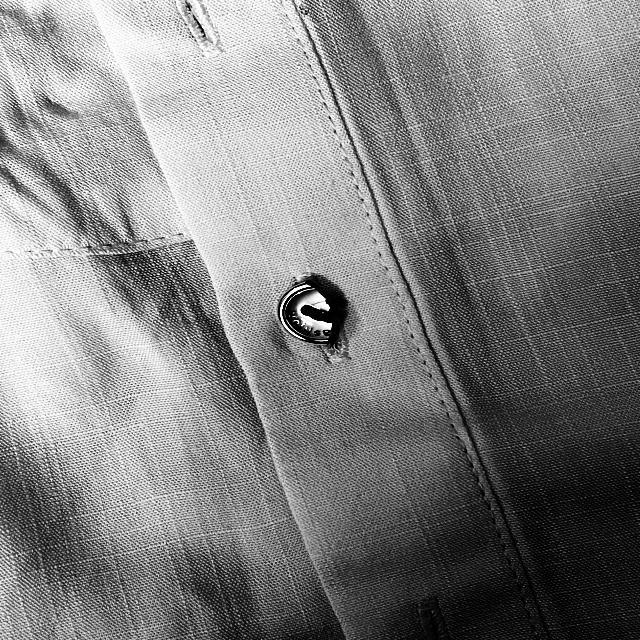Broken_button: (265, 273, 354, 358)
